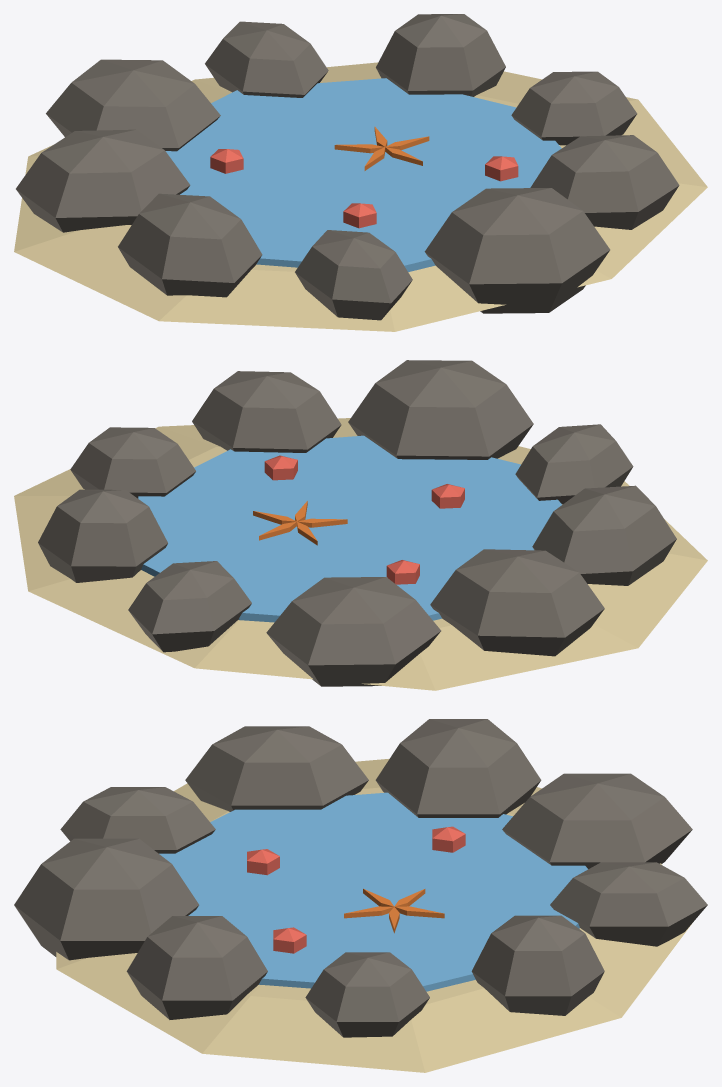
The model's file is cover_tide_pool.glb.
3 views of the same model, one above another, from view 1: azimuth 30°, elevation 25°; view 2: azimuth 150°, elevation 25°; view 3: azimuth 270°, elevation 25° (orthographic). The views are drawn at different scales.
Parts seen in each view (by area): view 1: nature_beach_tide_pool; view 2: nature_beach_tide_pool; view 3: nature_beach_tide_pool.
Part boxes in pixels (x1,y1,x2,y2): nature_beach_tide_pool: (14, 14, 707, 331); nature_beach_tide_pool: (14, 360, 707, 690); nature_beach_tide_pool: (14, 719, 707, 1072).
Size of the model in its own units: 2.83 by 0.4804 by 2.62.
